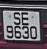0: (30, 24, 38, 42)
3: (22, 25, 30, 41)
6: (14, 25, 22, 41)
9: (6, 24, 15, 41)
E: (20, 10, 31, 25)
S: (13, 12, 22, 27)
